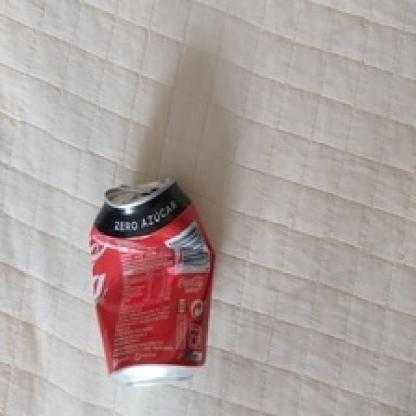Can: (91, 177, 215, 387)
